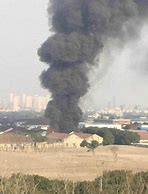smoke: (36, 1, 148, 127)
